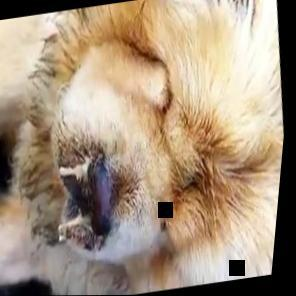nasal_discharge: (52, 152, 128, 252)
